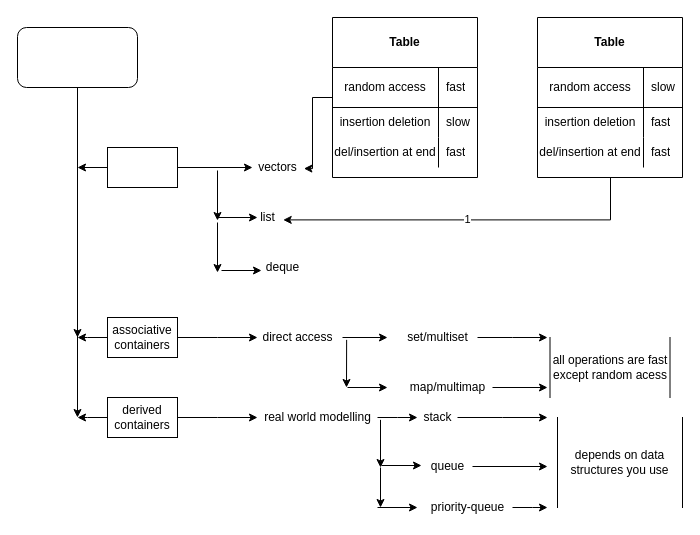
Image size: 700x535. Some labels were removed from this diagram. Here are the shapes that lost their labels. From the top down, the box of each, then its label:
(16, 26, 138, 88): containers
(106, 146, 178, 188): sequence containers
